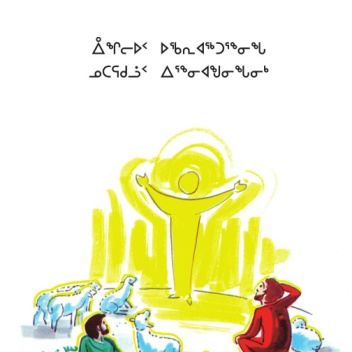inuktitut: (82, 59, 269, 82), (87, 32, 269, 55)
